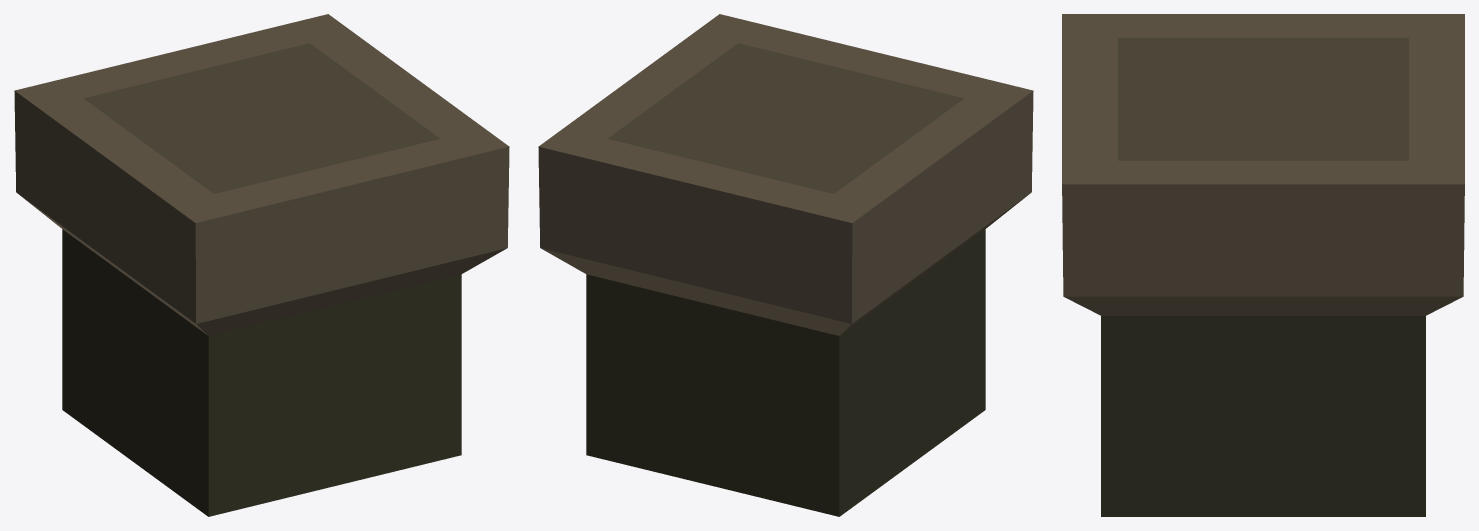
File: Chimney_2_D_3.fbx
3 views of the same model, side by side, from view 1: azimuth 30°, elevation 25°; view 2: azimuth 150°, elevation 25°; view 3: azimuth 270°, elevation 25° (orthographic). The views are drawn at different scales.
Parts seen in each view (by area): view 1: Chimney_2_D_3; view 2: Chimney_2_D_3; view 3: Chimney_2_D_3.
Part boxes in pixels (x1,y1,x2,y2): Chimney_2_D_3: (14,14,509,516); Chimney_2_D_3: (538,14,1033,516); Chimney_2_D_3: (1062,14,1464,516).
Size of the model in its own units: 63.29 by 60.52 by 63.29.
